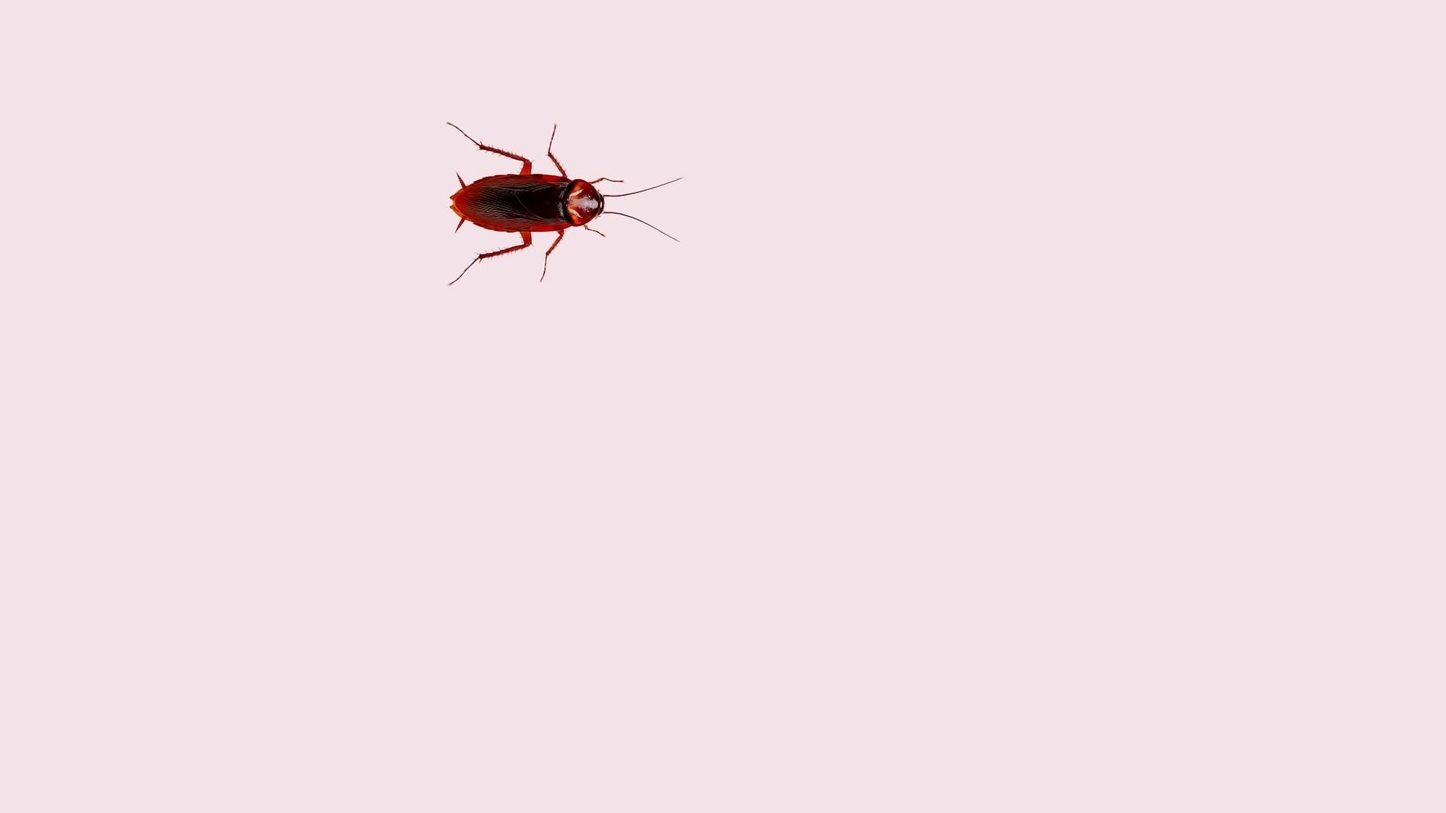cockroach: (437, 119, 656, 276)
